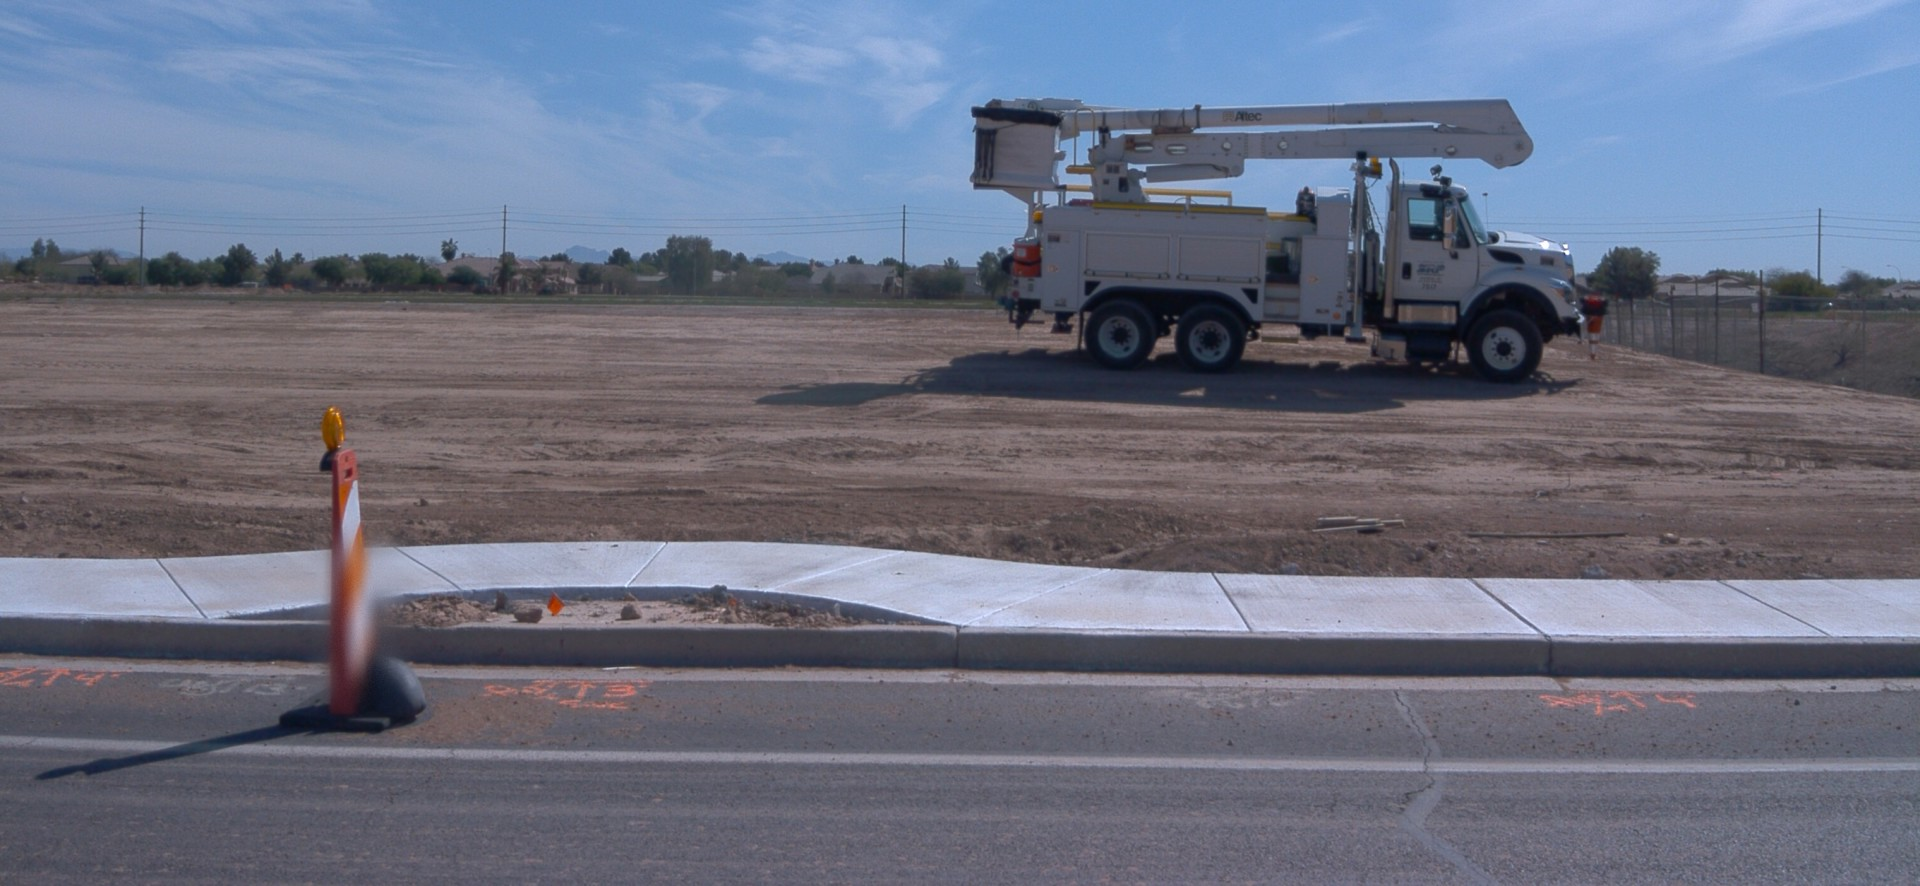TYPE_VEHICLE: (964, 91, 1612, 388)
